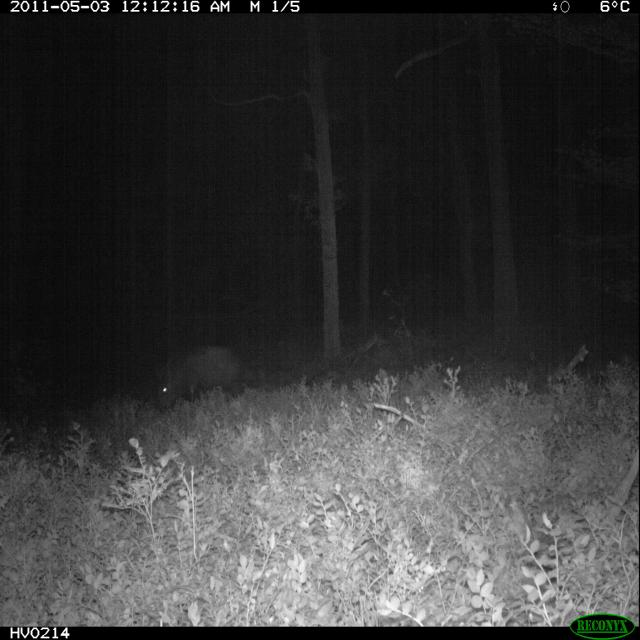boar: (125, 310, 266, 432)
